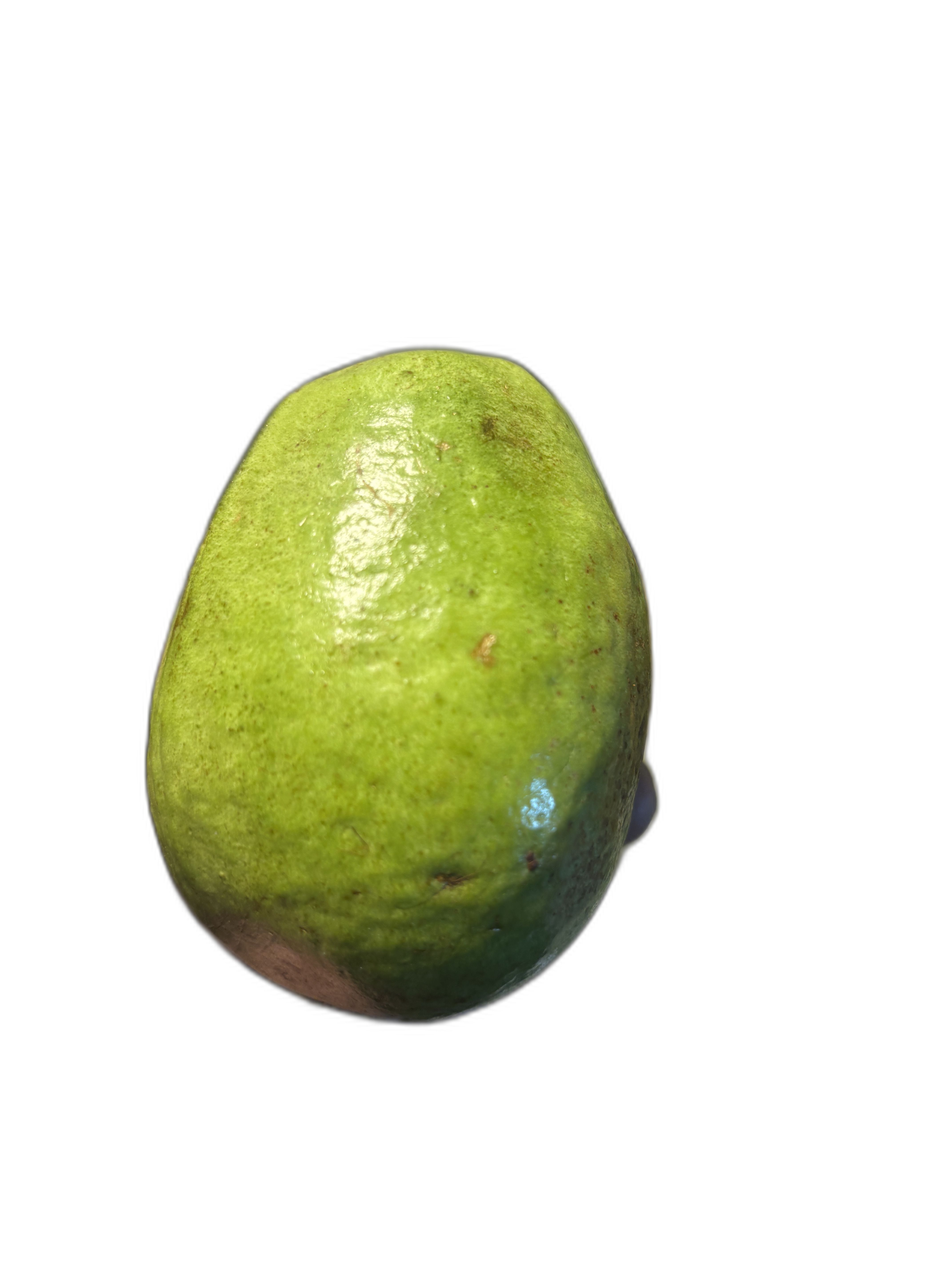guava: (50, 43, 900, 1069)
